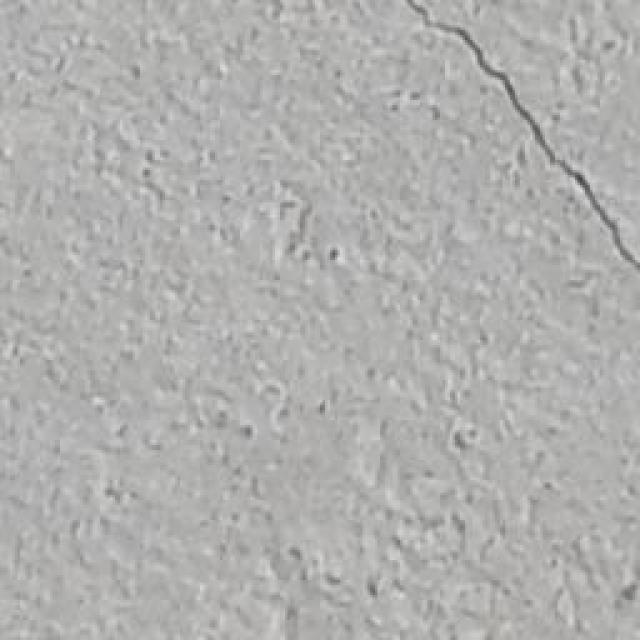concrete-crack: (399, 0, 640, 279)
